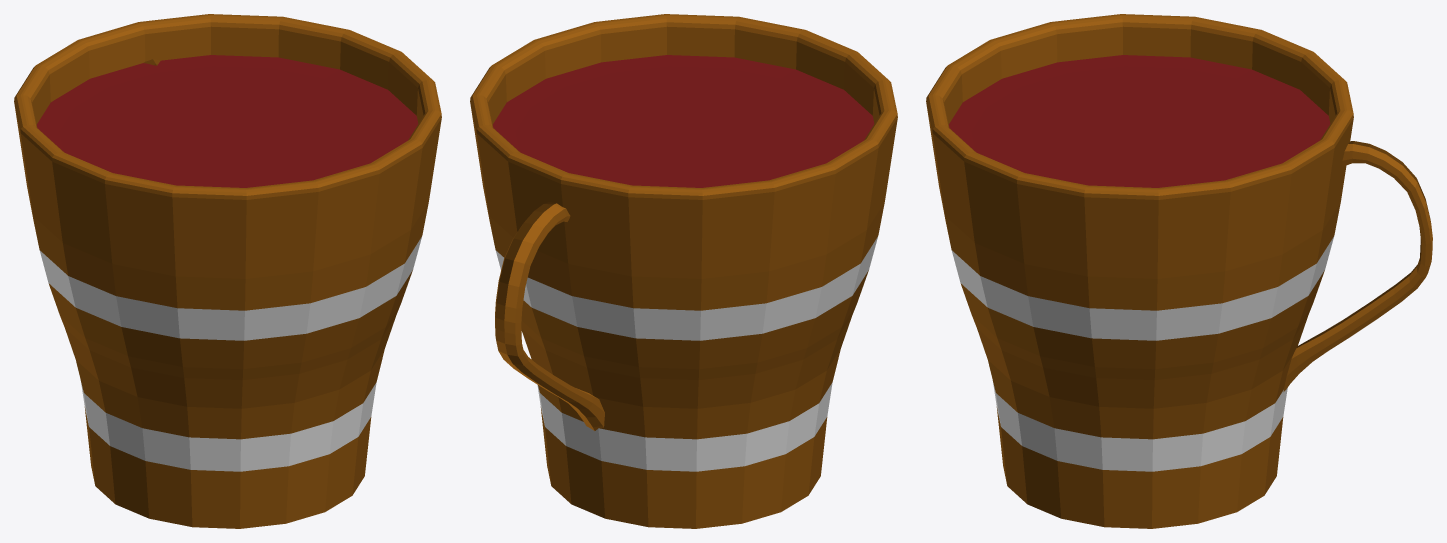
The picture shows the model from 3 angles, left to right: view 1: azimuth 30°, elevation 25°; view 2: azimuth 150°, elevation 25°; view 3: azimuth 270°, elevation 25°; orthographic projection.
Visible parts, largest first — view 1: Cylinder006, Object002; view 2: Cylinder006, Object002, Box006; view 3: Cylinder006, Object002, Box006.
Boxes of the visible parts, x1,y1,x2,y2 form: Cylinder006: (14,14,441,528); Object002: (37,55,418,187); Cylinder006: (470,14,897,528); Object002: (493,55,874,187); Box006: (495,202,604,430); Cylinder006: (926,14,1353,528); Object002: (949,55,1330,187); Box006: (1283,141,1432,391).
Size of the model in its own units: 86693 by 82414 by 102697.
